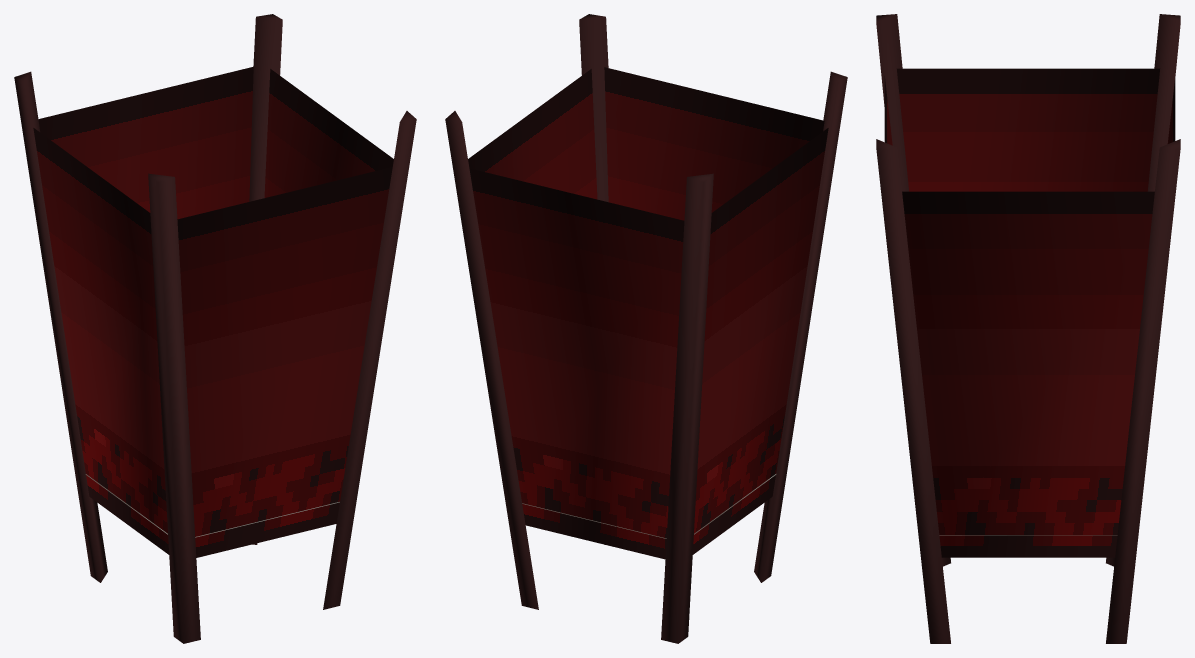
3 views of the same model, side by side, from view 1: azimuth 30°, elevation 25°; view 2: azimuth 150°, elevation 25°; view 3: azimuth 270°, elevation 25° (orthographic). The views are drawn at different scales.
Visible parts, largest first — view 1: 3056IMRL03_07; view 2: 3056IMRL03_07; view 3: 3056IMRL03_07.
Boxes of the visible parts, bbox=[...] form: 3056IMRL03_07: bbox=[14, 14, 416, 643]; 3056IMRL03_07: bbox=[445, 14, 847, 643]; 3056IMRL03_07: bbox=[876, 14, 1180, 643].
Bounding box in the file's own units: 0.5352 × 0.9768 × 0.5156.
3 materials, 3 textured.
